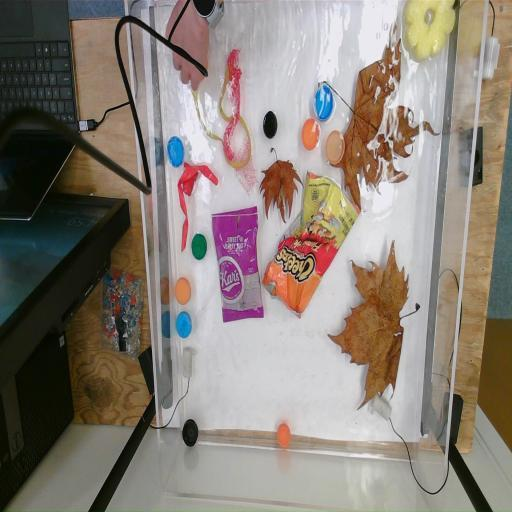Bottle Cap: (313, 83, 335, 123), (325, 130, 345, 166), (166, 136, 186, 168), (301, 118, 320, 150), (182, 420, 199, 448), (174, 278, 191, 304), (191, 233, 207, 260), (263, 111, 278, 139), (176, 312, 192, 338), (277, 423, 291, 448)
Cone Cap: (184, 167, 196, 198)
Leaf: (336, 32, 440, 212), (326, 236, 406, 406), (258, 149, 306, 222)
Netting: (222, 50, 244, 162), (234, 138, 258, 194)
Plastic Bag: (261, 168, 360, 320), (212, 208, 265, 324)
Plastic Strand: (183, 71, 252, 172), (179, 160, 220, 252)
Sponge: (404, 0, 458, 56)
